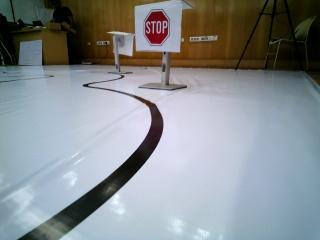stop: (129, 0, 185, 53)
